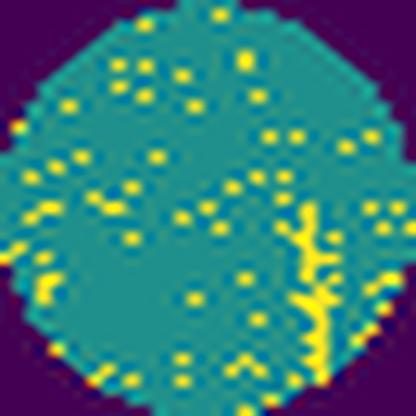Scratch: (272, 197, 351, 391)
